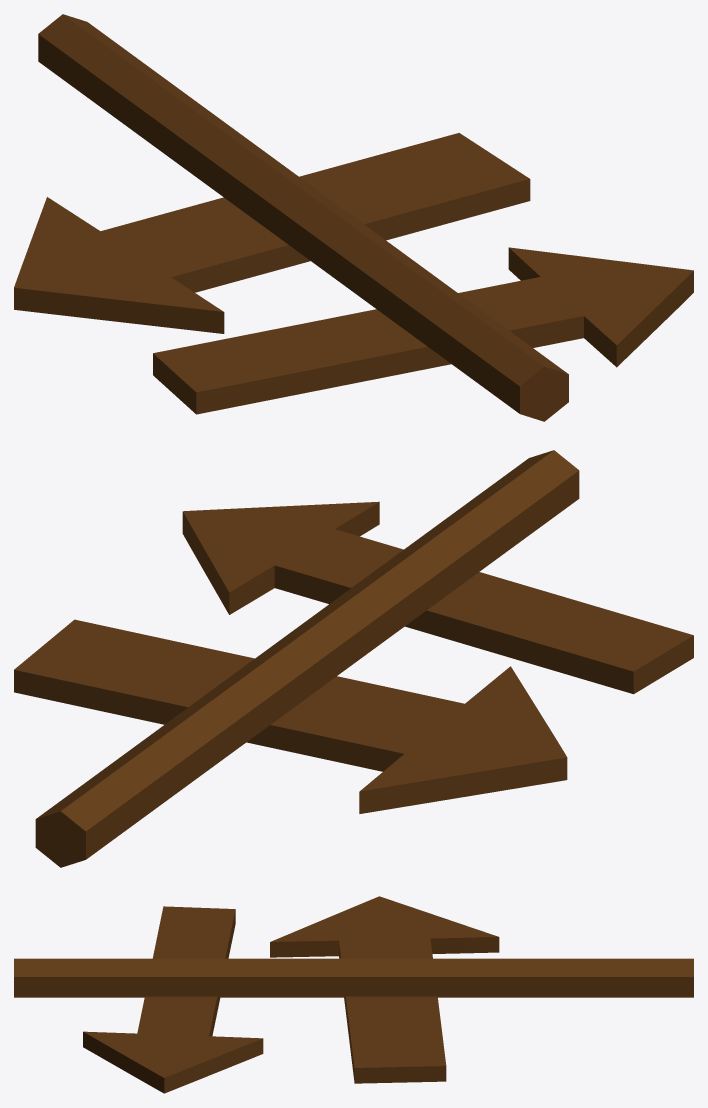
The picture shows the model from 3 angles, top to bottom: view 1: azimuth 30°, elevation 25°; view 2: azimuth 150°, elevation 25°; view 3: azimuth 270°, elevation 25°; orthographic projection. The views are drawn at different scales.
Parts seen in each view (by area): view 1: group_0_6306067; view 2: group_0_6306067; view 3: group_0_6306067.
Boxes of the visible parts, x1,y1,x2,y2 form: group_0_6306067: (14, 14, 693, 421); group_0_6306067: (14, 450, 693, 867); group_0_6306067: (14, 896, 693, 1093).
Bounding box in the file's own units: 49.97 × 6 × 79.
